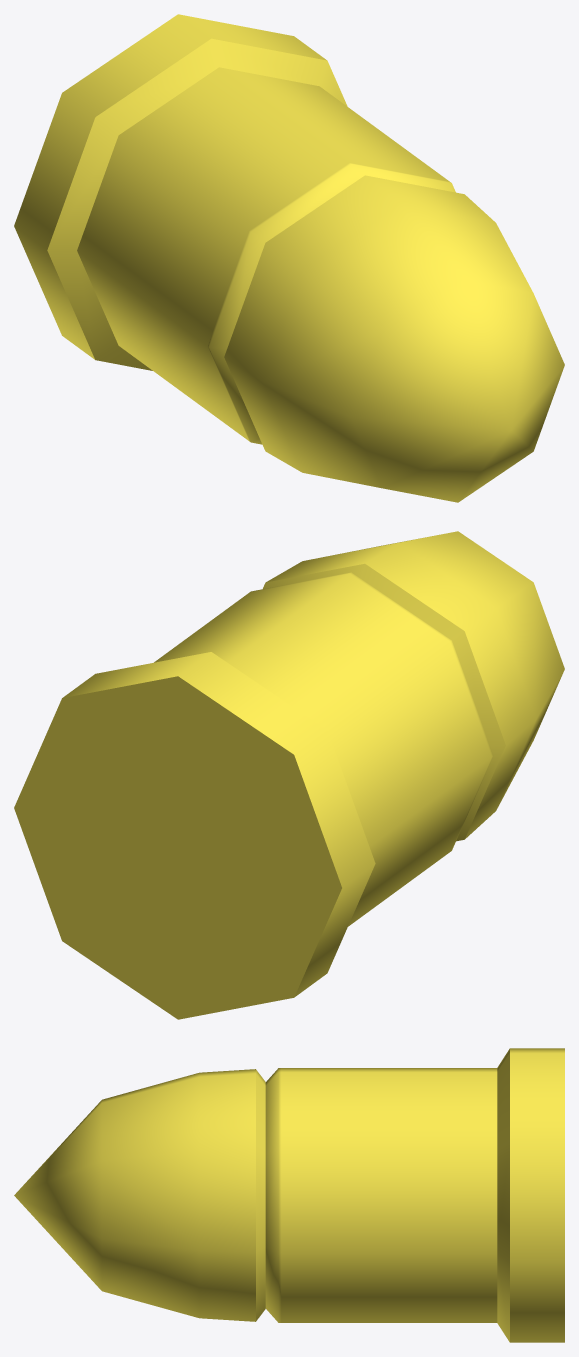
The model's file is Shell.glb.
The picture shows the model from 3 angles, top to bottom: view 1: azimuth 30°, elevation 25°; view 2: azimuth 150°, elevation 25°; view 3: azimuth 270°, elevation 25°; orthographic projection. The views are drawn at different scales.
Parts seen in each view (by area): view 1: Shell; view 2: Shell; view 3: Shell.
Boxes of the visible parts, left/top/right/bottom form: Shell: left=14, top=14, right=564, bottom=502; Shell: left=14, top=531, right=564, bottom=1019; Shell: left=14, top=1048, right=564, bottom=1342.
Bounding box in the file's own units: 0.2987 × 0.2987 × 0.5253.
